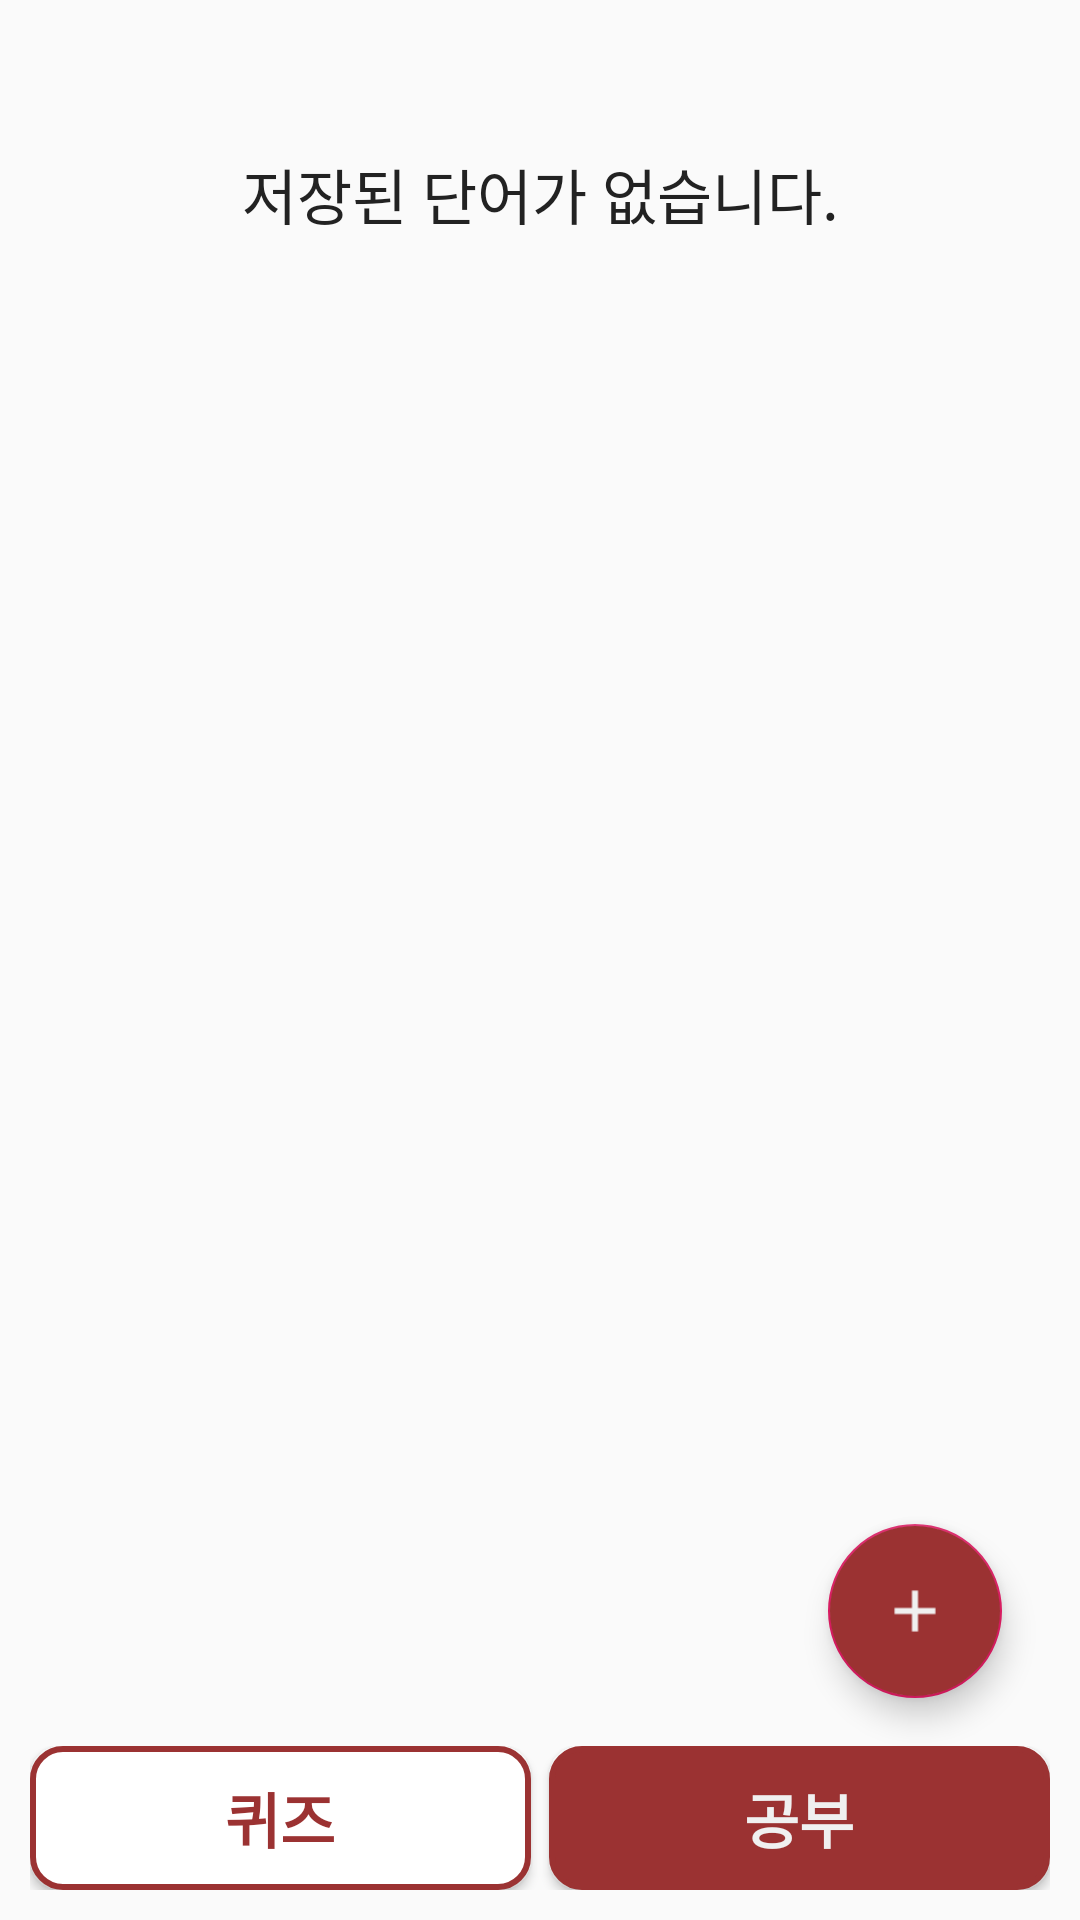

Screen size 1080w x 1920h. Icon name, then its box in pixels as [left=x1, top=y1, right=x2, bottom=y2]:
add: [left=828, top=1524, right=1002, bottom=1698]
